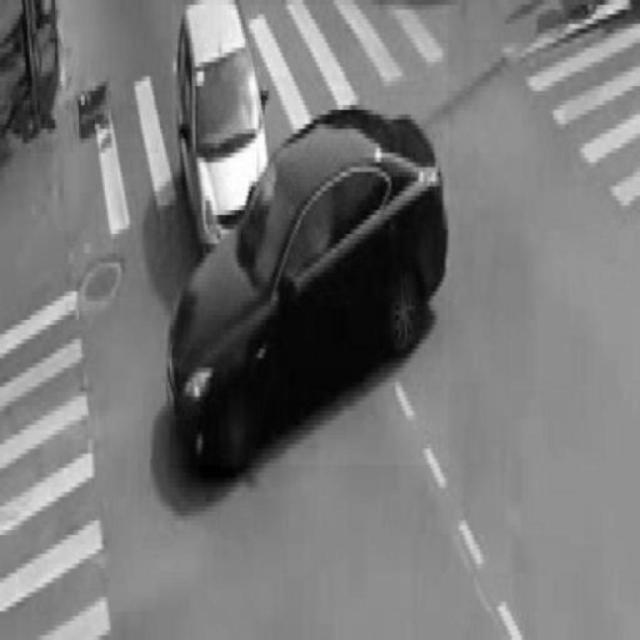accident: (173, 5, 449, 465)
